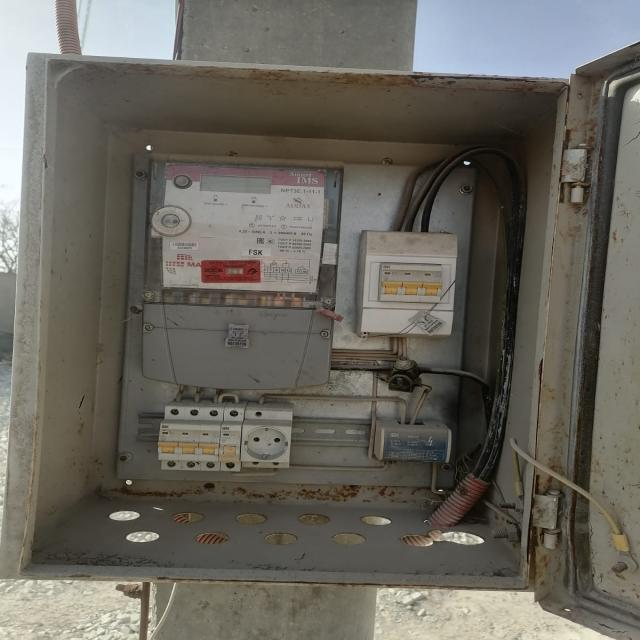Display: (199, 175, 272, 195)
meter_matrica: (160, 163, 327, 296)
meter_number: (169, 241, 200, 252)
seal_elso: (223, 322, 250, 349)
seal_imp: (200, 259, 262, 283)
